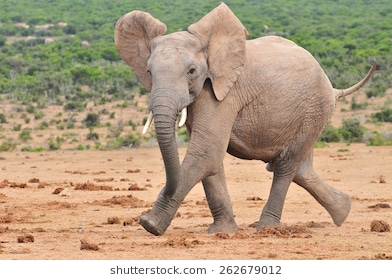elephant: (114, 2, 379, 234)
